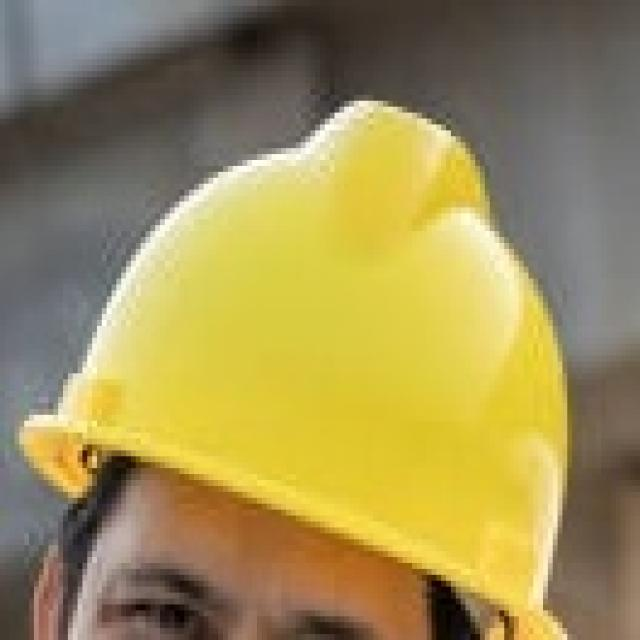helmet_yellow: (2, 3, 638, 637)
